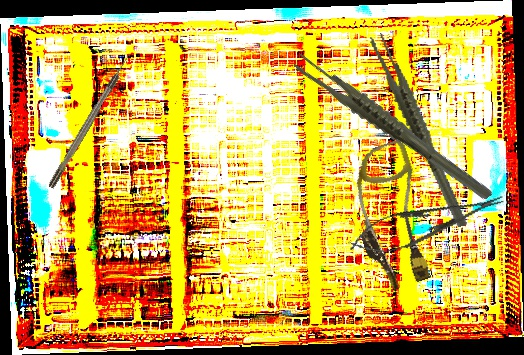Cannula: (334, 138, 449, 295)
Hook Surgical: (46, 52, 134, 189)
Needle Holder: (343, 181, 511, 265)
Tissue Forceps: (289, 23, 495, 233), (368, 23, 469, 238)
